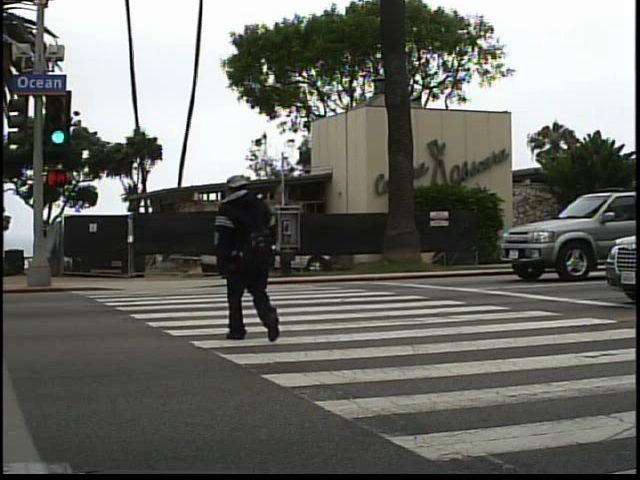person: (204, 163, 296, 355)
